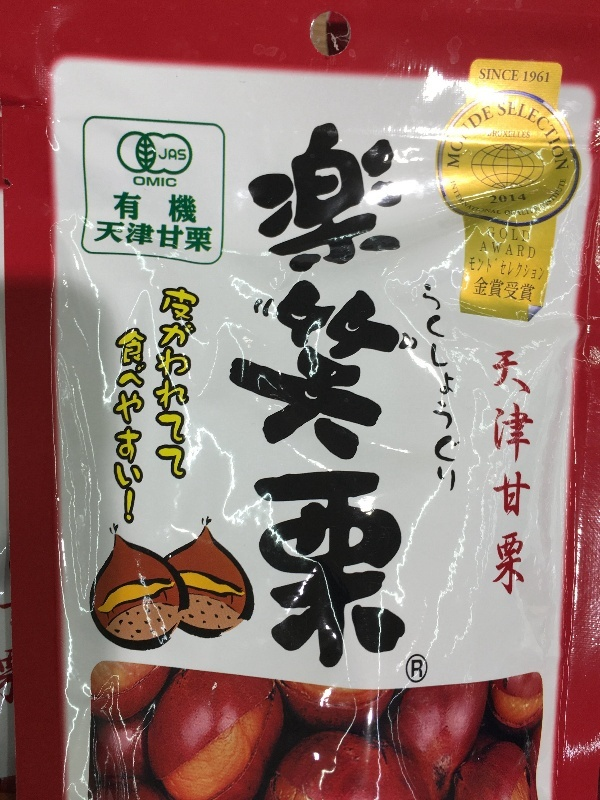text: (241, 115, 256, 669), (257, 115, 272, 669), (273, 115, 288, 669), (289, 115, 304, 669), (305, 115, 320, 669), (321, 115, 336, 669), (337, 115, 352, 669), (353, 115, 368, 669), (369, 115, 384, 669), (385, 115, 400, 669), (497, 348, 512, 599), (513, 348, 528, 599), (234, 115, 240, 669), (401, 115, 407, 669), (433, 283, 448, 493), (449, 283, 464, 493), (129, 326, 144, 526), (161, 287, 176, 482), (177, 287, 192, 482), (115, 326, 128, 526), (421, 283, 432, 493), (529, 348, 536, 599), (145, 326, 153, 526), (193, 287, 201, 482), (449, 99, 464, 181), (465, 99, 480, 181), (481, 99, 495, 181), (513, 103, 528, 171), (529, 103, 544, 171), (545, 103, 560, 171), (498, 103, 512, 171), (1, 647, 16, 706), (493, 348, 496, 599), (440, 99, 448, 181), (465, 179, 480, 220), (481, 179, 496, 220), (545, 176, 560, 216), (561, 103, 569, 171), (97, 220, 112, 256), (113, 220, 128, 256), (129, 220, 144, 256), (145, 220, 160, 256), (161, 220, 176, 256), (177, 220, 192, 256), (193, 220, 208, 256), (451, 179, 464, 220), (529, 253, 545, 285), (113, 192, 128, 226), (129, 192, 144, 226), (145, 192, 160, 226), (161, 192, 176, 226), (177, 192, 192, 226), (481, 253, 496, 285), (497, 253, 512, 285), (513, 253, 528, 285), (481, 275, 496, 305), (497, 275, 512, 305), (513, 275, 528, 305), (561, 176, 570, 216), (470, 253, 480, 285), (497, 240, 512, 261), (513, 240, 528, 261), (482, 240, 496, 261), (513, 225, 529, 242), (481, 67, 496, 84), (497, 67, 512, 84), (497, 225, 512, 242), (538, 176, 544, 216), (161, 149, 176, 163), (465, 283, 466, 493), (513, 205, 528, 219), (529, 275, 536, 305), (497, 179, 502, 220), (529, 71, 544, 84), (497, 192, 512, 205), (161, 176, 177, 188), (513, 192, 527, 205), (145, 176, 160, 188), (417, 659, 424, 680), (529, 240, 536, 261), (209, 220, 213, 256), (177, 149, 187, 163), (193, 192, 197, 226), (488, 225, 496, 242), (497, 130, 512, 139), (513, 130, 528, 139), (529, 205, 538, 219), (134, 176, 144, 188), (476, 275, 480, 305), (513, 67, 520, 84), (504, 205, 512, 219), (411, 659, 416, 680), (489, 192, 496, 205), (488, 130, 496, 139), (545, 71, 550, 84), (524, 71, 528, 84), (158, 149, 160, 163), (529, 130, 531, 139)
